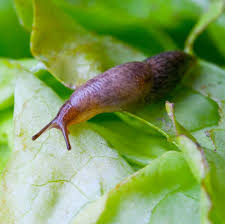slug: (34, 51, 195, 151)
